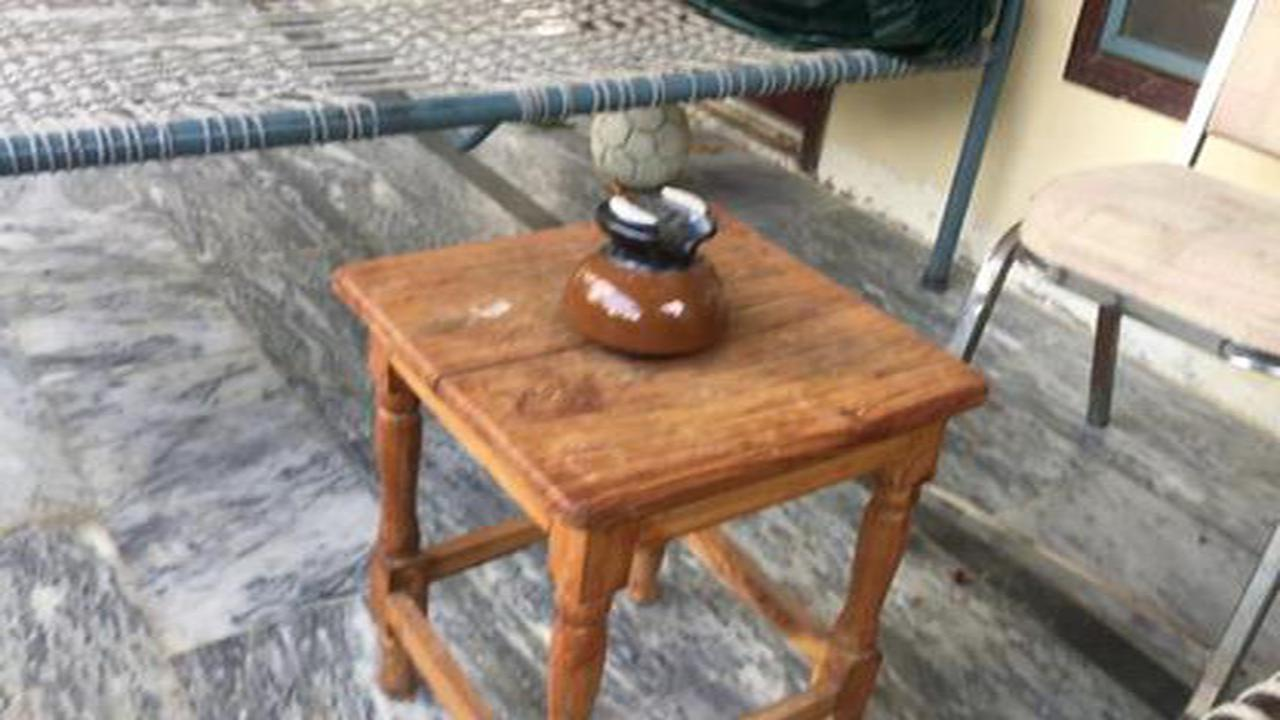insulator_pin: (533, 164, 757, 362)
